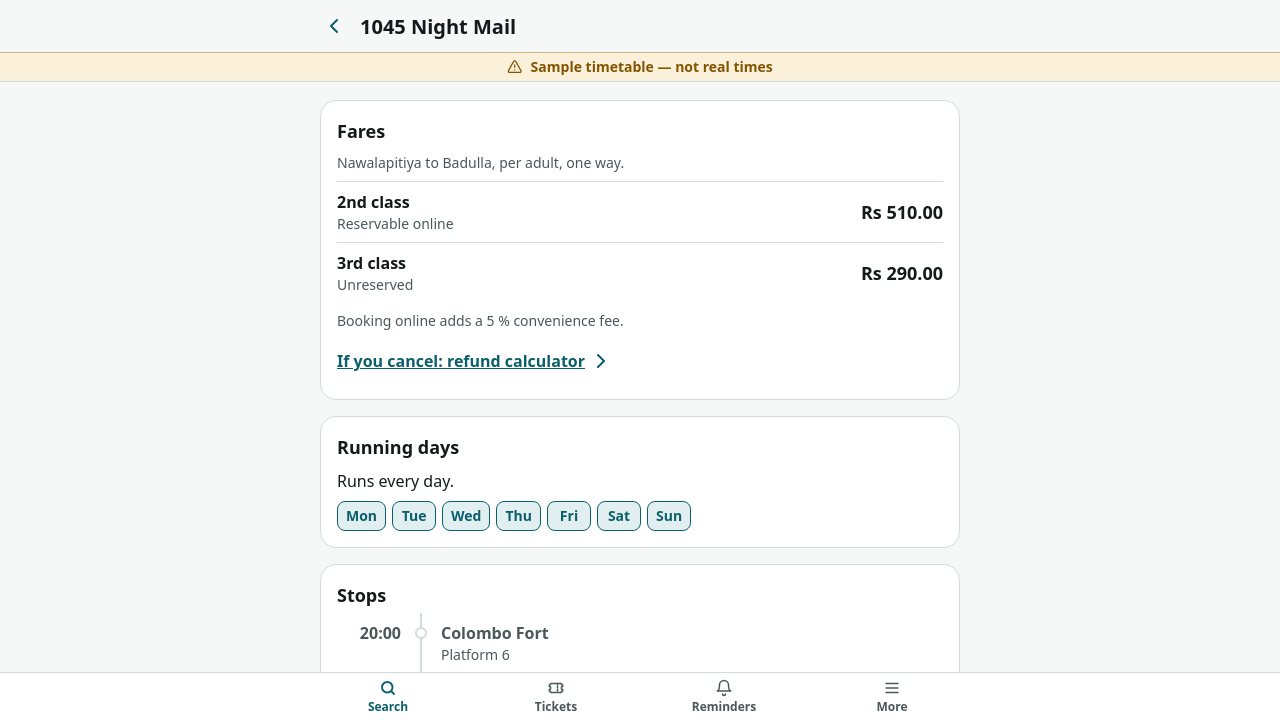
Test: boarding mid-route: deadlines count from the origin, and the screen says so (not confirmed)
(page scrolled)
What coordinates should you click on to do the following:
click the link "If you cancel: refund calculator"
I would click on:
 (475, 361)
Its box is [337,349,613,373].
(page scrolled)
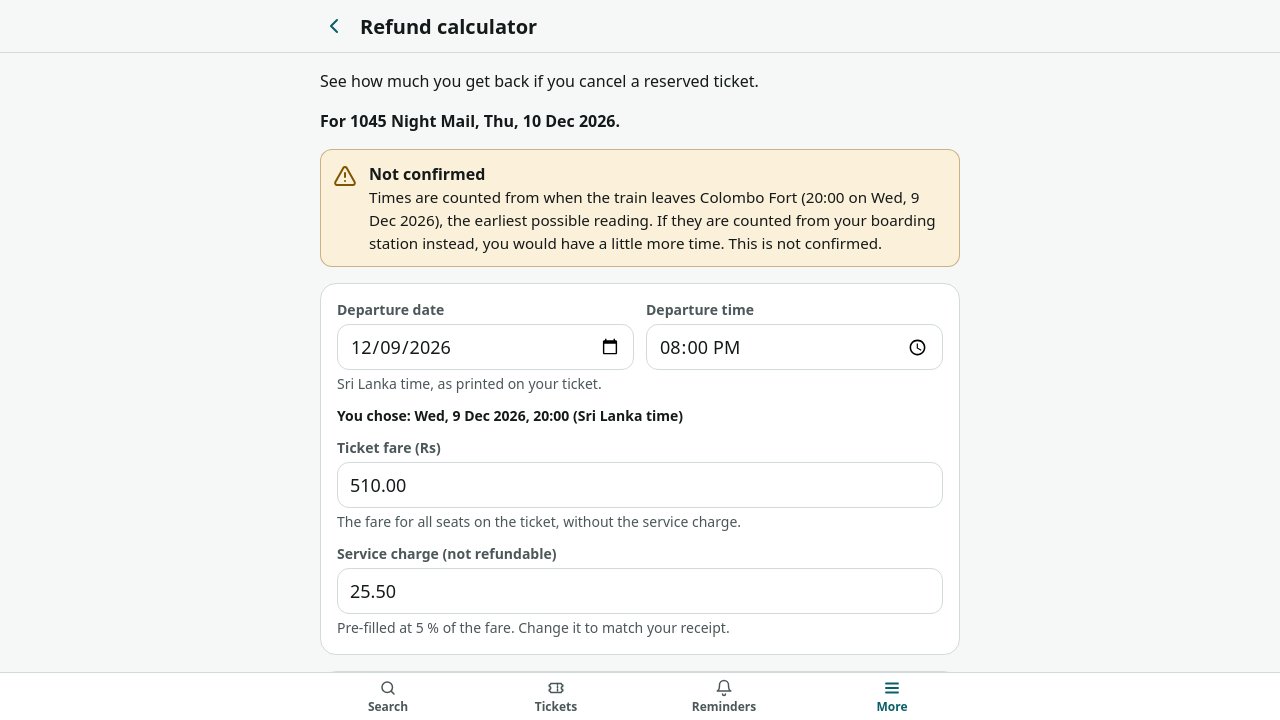
Check: the date field labelled "Departure date" holds "2026-12-09", box [337,324,634,370]
Check: the time field labelled "Departure time" holds "20:00", box [646,324,943,370]
Check: the text "Times are counted from when the train leaves Colombo Fort (20:00 on Wed, 9 Dec 2026), the earliest possible reading. If " is shown, box [369,187,936,253]
